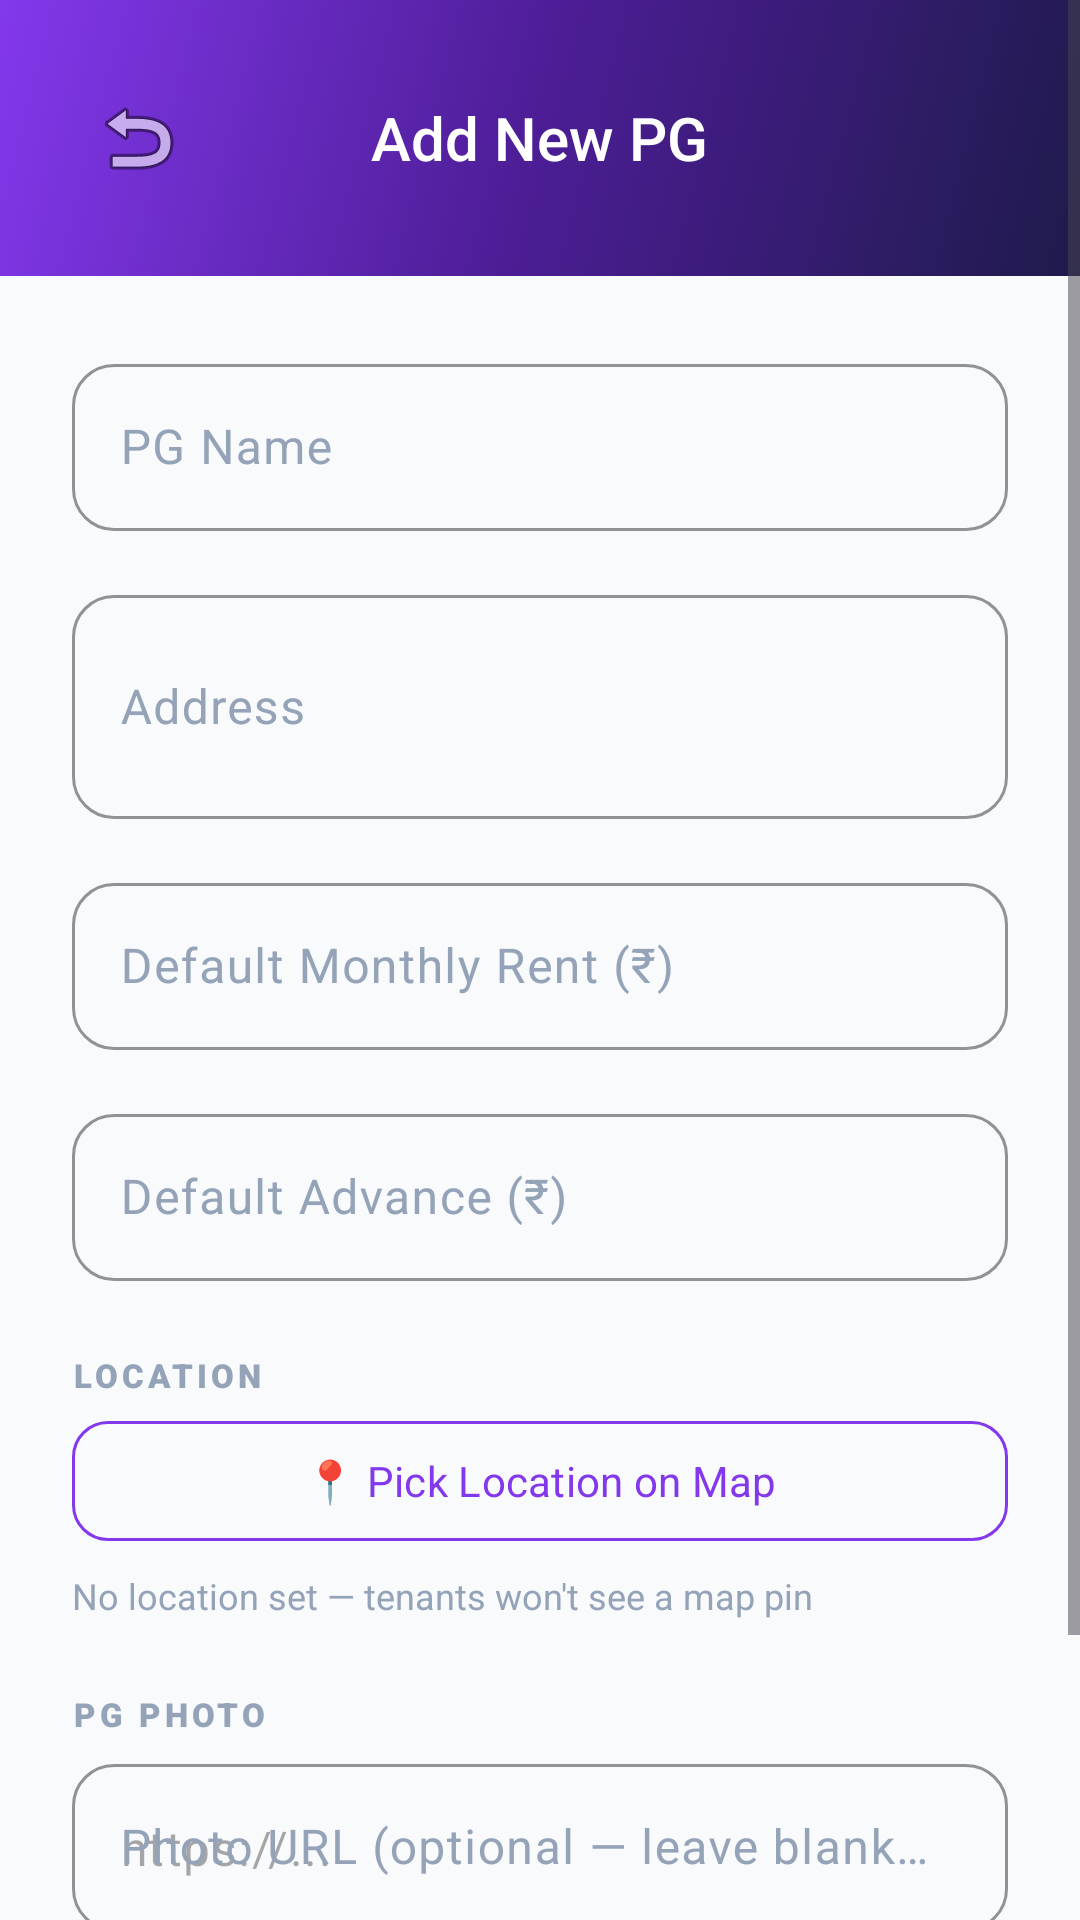

Icon bounding boxes for this 1080 × 1920 phone screenshot, format (x1, y1, x2, y2):
Back: (105, 107, 174, 170)
